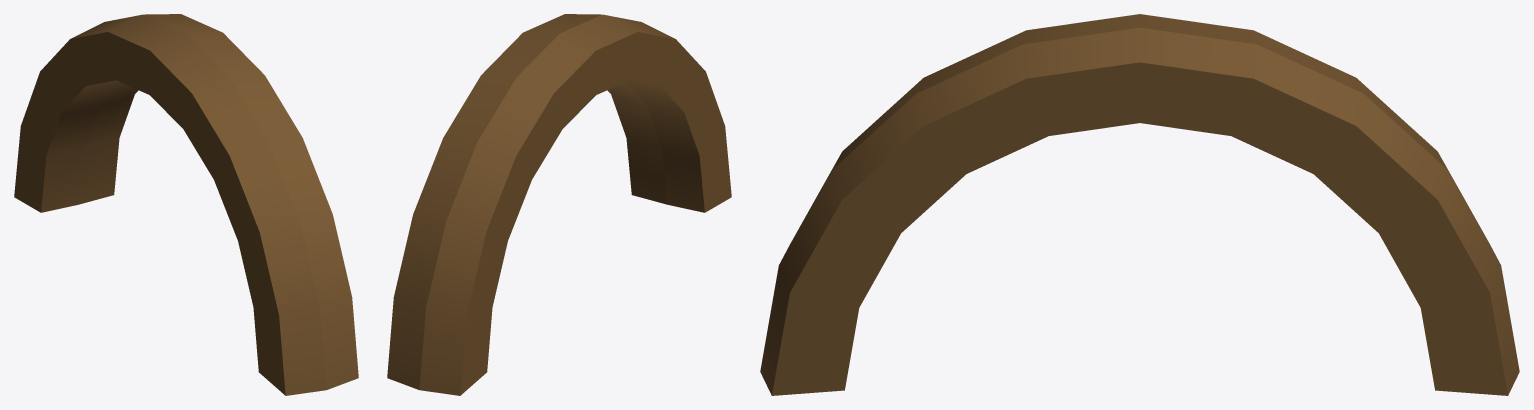
The model's file is Arch.fbx.
The picture shows the model from 3 angles, left to right: view 1: azimuth 30°, elevation 25°; view 2: azimuth 150°, elevation 25°; view 3: azimuth 270°, elevation 25°; orthographic projection. The views are drawn at different scales.
Parts seen in each view (by area): view 1: pTorus1; view 2: pTorus1; view 3: pTorus1.
Boxes of the visible parts, box(x1,y1,x2,y2) form: pTorus1: box(14, 14, 358, 395); pTorus1: box(387, 14, 731, 395); pTorus1: box(760, 14, 1519, 395).
Bounding box in the file's own units: 0.7625 × 2.53 × 5.06.
